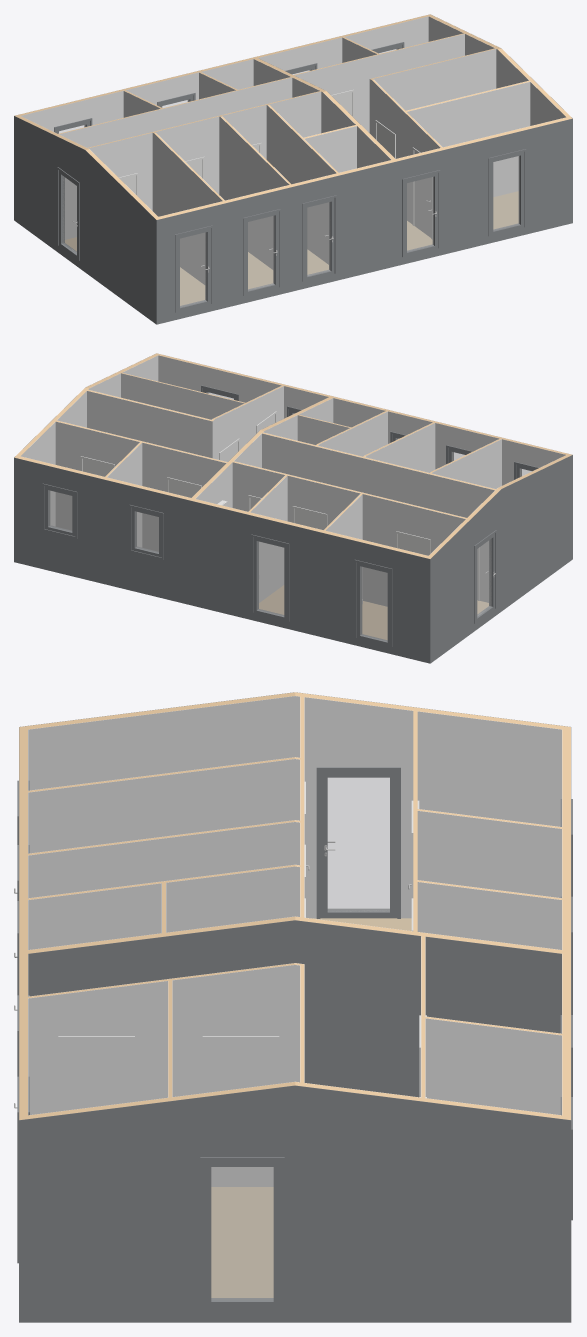
The model's file is Kačiukai_R01.fbx.
3 views of the same model, one above another, from view 1: azimuth 30°, elevation 25°; view 2: azimuth 150°, elevation 25°; view 3: azimuth 270°, elevation 25° (orthographic). The views are drawn at different scales.
Parts seen in each view (by area): view 1: IfcWall/Part:2336143, IfcWall/Part:2336140, IfcWall/Part:2336148, IfcWall/Part:2384033, IfcWall/Part:2384055, IfcWall/Part:2384051, IfcWall/Part:2384040, IfcWall/Part:2387829, IfcWall/Part:2387832, IfcWall/Part:2405573, IfcWall/Part:2384037, IfcSlab/Part:2336151 (+24 smaller); view 2: IfcWall/Part:2336149, IfcWall/Part:2336140, IfcWall/Part:2387381, IfcWall/Part:2336142, IfcWall/Part:2384039, IfcWall/Part:2384054, IfcWall/Part:2384049, IfcWall/Part:2384050, IfcWindow/Langai (Akrusta):1000x2100x120 (varstomas-kairini, IfcWindow/Langai (Akrusta):1000x2100x120 (varstomas-kairinis, IfcWall/Part:2384032, IfcWall/Part:2384037 (+29 smaller); view 3: IfcWall/Part:2336146, IfcWall/Part:2336139, IfcWall/Part:2384062, IfcWall/Part:2387831, IfcWall/Part:2384035, IfcDoor/Durys išorinės:1000x2100x120 (kairinės):2392655, IfcWindow/Langai (Akrusta):1000x2100x120 (varstomas-kairini., IfcWall/Part:2387828, IfcWall/Part:2384036, IfcWall/Part:2384063, IfcWall/Part:2405523, IfcWall/Part:2422177 (+14 smaller).
Boxes of the visible parts, x1,y1,x2,y2 form: IfcWall/Part:2336143: (156, 118, 572, 324); IfcWall/Part:2336140: (14, 116, 156, 324); IfcWall/Part:2336148: (21, 16, 428, 131); IfcWall/Part:2384033: (407, 82, 530, 196); IfcWall/Part:2384055: (59, 77, 292, 239); IfcWall/Part:2384051: (294, 34, 464, 132); IfcWall/Part:2384040: (373, 49, 496, 110); IfcWall/Part:2387829: (219, 116, 289, 269); IfcWall/Part:2387832: (152, 133, 222, 284); IfcWall/Part:2405573: (266, 105, 336, 264); IfcWall/Part:2384037: (369, 79, 440, 237); IfcSlab/Part:2336151: (65, 191, 518, 305); IfcWall/Part:2336149: (14, 457, 430, 663); IfcWall/Part:2336140: (430, 455, 572, 663); IfcWall/Part:2387381: (262, 433, 494, 602); IfcWall/Part:2336142: (158, 355, 565, 485); IfcWall/Part:2384039: (87, 391, 212, 458); IfcWall/Part:2384054: (362, 494, 465, 606); IfcWall/Part:2384049: (55, 421, 139, 530); IfcWall/Part:2384050: (142, 442, 226, 551); IfcWindow/Langai (Akrusta):1000x2100x120 (varstomas-kairini: (251, 534, 289, 621); IfcWindow/Langai (Akrusta):1000x2100x120 (varstomas-kairinis: (354, 559, 392, 646); IfcWall/Part:2384032: (121, 373, 244, 419); IfcWall/Part:2384037: (212, 386, 283, 459); IfcWall/Part:2336146: (19, 1085, 570, 1322); IfcWall/Part:2336139: (28, 696, 561, 918); IfcWall/Part:2384062: (28, 920, 420, 1097); IfcWall/Part:2387831: (28, 759, 299, 853); IfcWall/Part:2384035: (28, 981, 167, 1114); IfcDoor/Durys išorinės:1000x2100x120 (kairinės):2392655: (316, 767, 400, 918); IfcWindow/Langai (Akrusta):1000x2100x120 (varstomas-kairini.: (200, 1157, 284, 1308); IfcWall/Part:2387828: (28, 822, 299, 898); IfcWall/Part:2384036: (172, 965, 299, 1096); IfcWall/Part:2384063: (425, 936, 561, 1033); IfcWall/Part:2405523: (425, 1018, 561, 1114); IfcWall/Part:2422177: (417, 811, 561, 897).
Size of the model in its own units: 1209 by 337 by 721.
